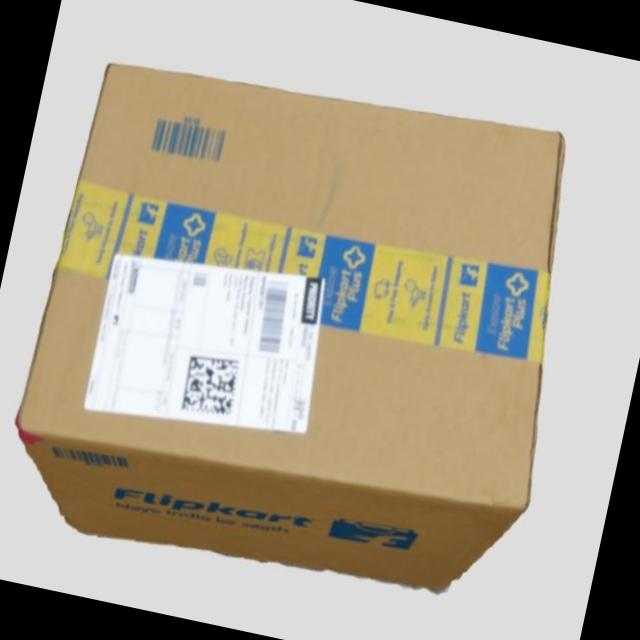box: (13, 64, 564, 596)
